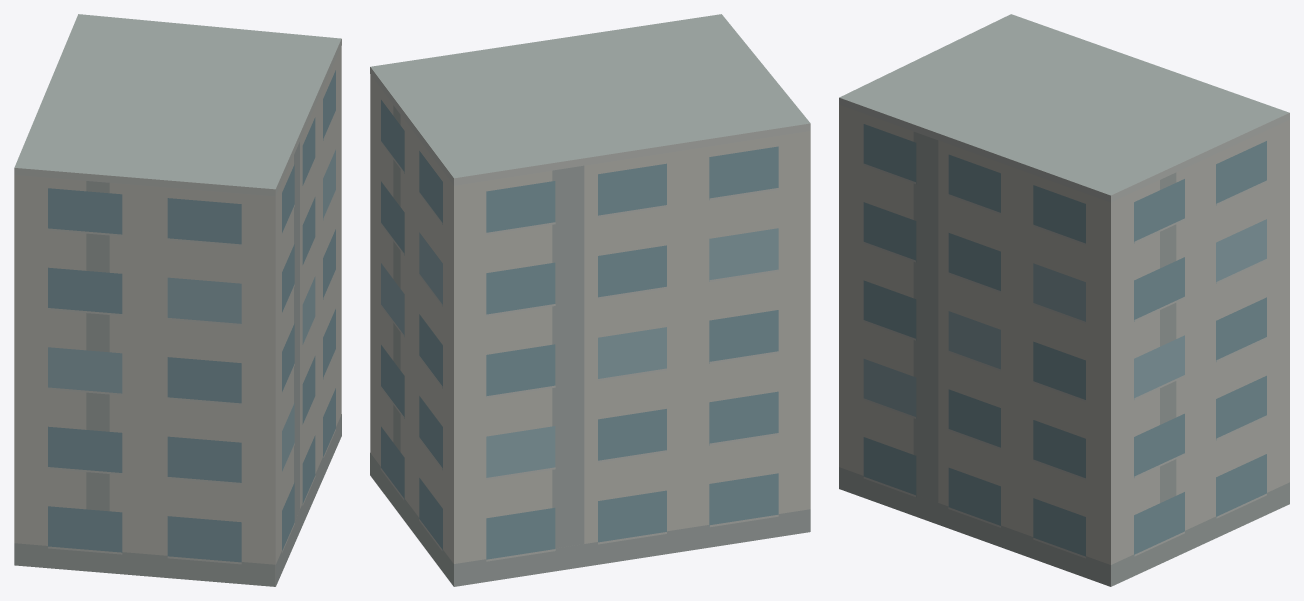
Rendered from survey-upis-32762937.glb.
The picture shows the model from 3 angles, left to right: view 1: azimuth 30°, elevation 25°; view 2: azimuth 150°, elevation 25°; view 3: azimuth 270°, elevation 25°; orthographic projection. The views are drawn at different scales.
Parts seen in each view (by area): view 1: survey-upis-32762937.tmp; view 2: survey-upis-32762937.tmp; view 3: survey-upis-32762937.tmp.
Boxes of the visible parts, x1,y1,x2,y2 form: survey-upis-32762937.tmp: (14, 14, 341, 586); survey-upis-32762937.tmp: (370, 14, 810, 586); survey-upis-32762937.tmp: (839, 14, 1289, 586).
Bounding box in the file's own units: 13.44 × 13.5 × 14.1.
